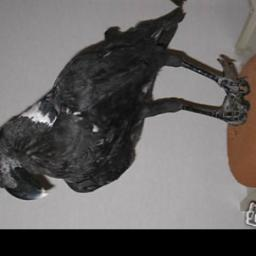Crow: (0, 1, 256, 214)
